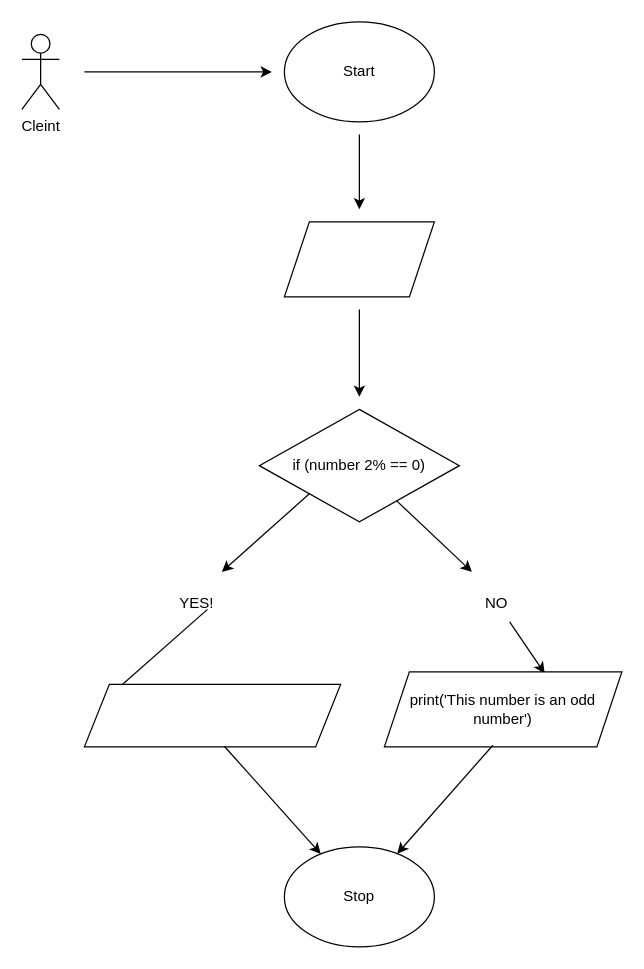
Some shapes in this 644 by 969 pixel diagram are drawn without their labels. Here are the shapes that lost their labels. From the top down, the box of each, then its label:
(283, 221, 434, 297): Input number
(83, 683, 341, 747): print('This number is an even number')
